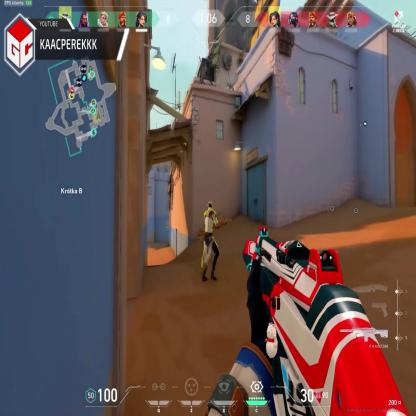enemy: (202, 196, 218, 280)
enemy_head: (206, 202, 214, 210)
